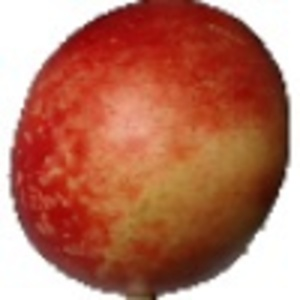nectarina: (7, 1, 292, 300)
